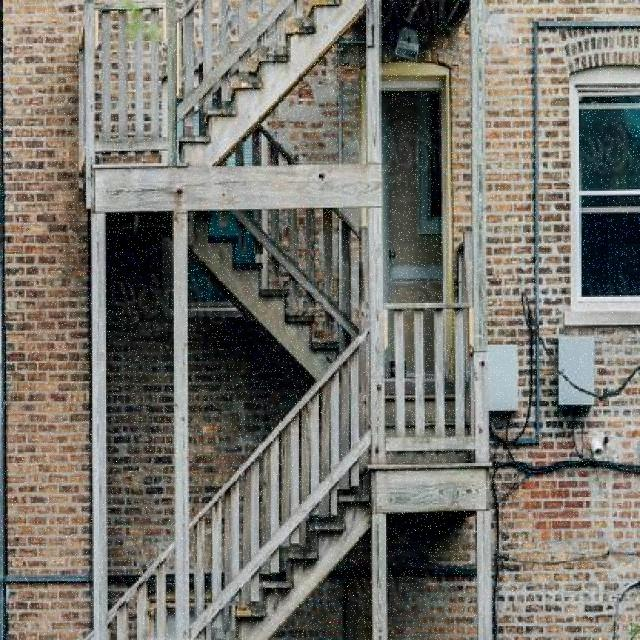stair: (26, 243, 494, 640), (99, 1, 421, 204)
